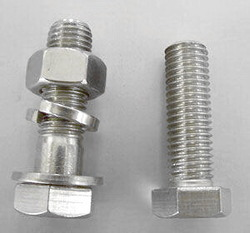hex bolt: (148, 35, 234, 228)
loaded bolt: (6, 14, 118, 227)
